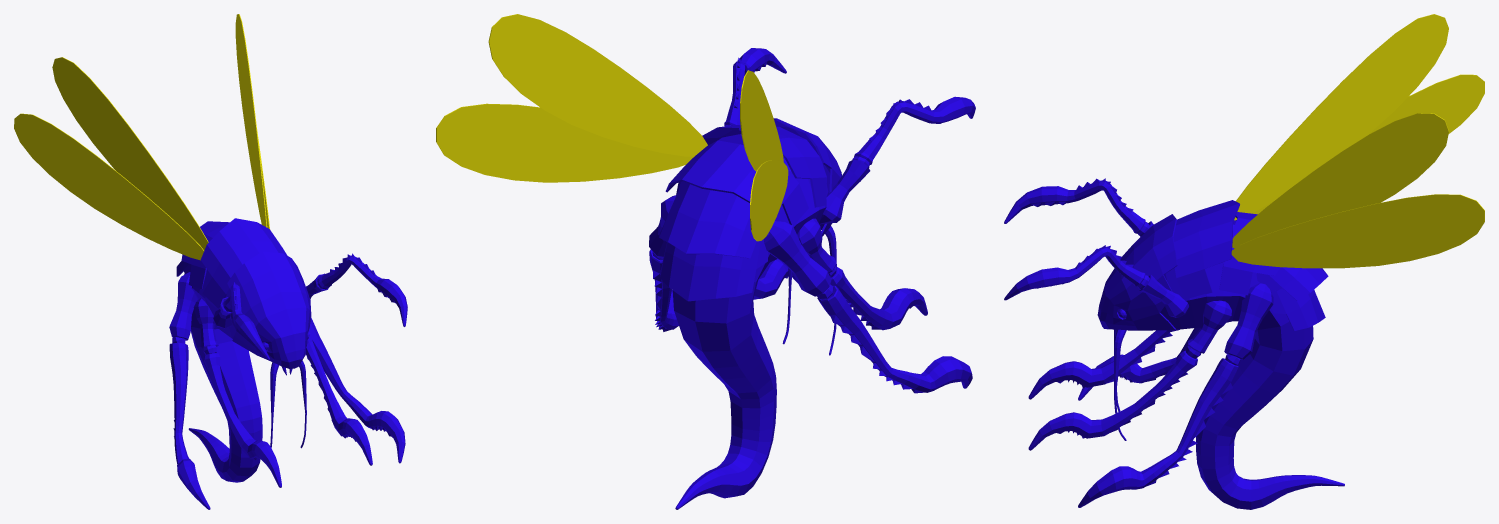
Rendered from flyEnemy.fbx.
The picture shows the model from 3 angles, left to right: view 1: azimuth 30°, elevation 25°; view 2: azimuth 150°, elevation 25°; view 3: azimuth 270°, elevation 25°; orthographic projection. The views are drawn at different scales.
Visible parts, largest first — view 1: EnemyFly; view 2: EnemyFly; view 3: EnemyFly.
Part boxes in pixels (left/top/right/bottom): EnemyFly: left=14, top=14, right=407, bottom=509; EnemyFly: left=436, top=14, right=975, bottom=509; EnemyFly: left=1004, top=14, right=1484, bottom=509.
Size of the model in its own units: 0.6845 by 1.1 by 1.08.
